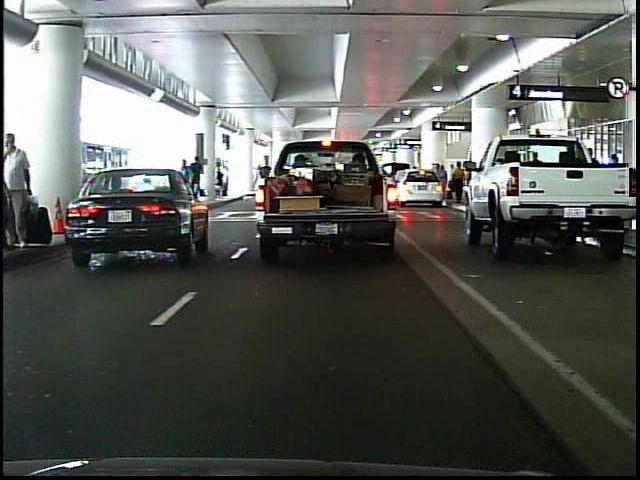person: (7, 130, 38, 250), (173, 154, 204, 225), (193, 154, 207, 184)
